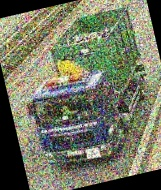truck: (11, 5, 161, 173)
